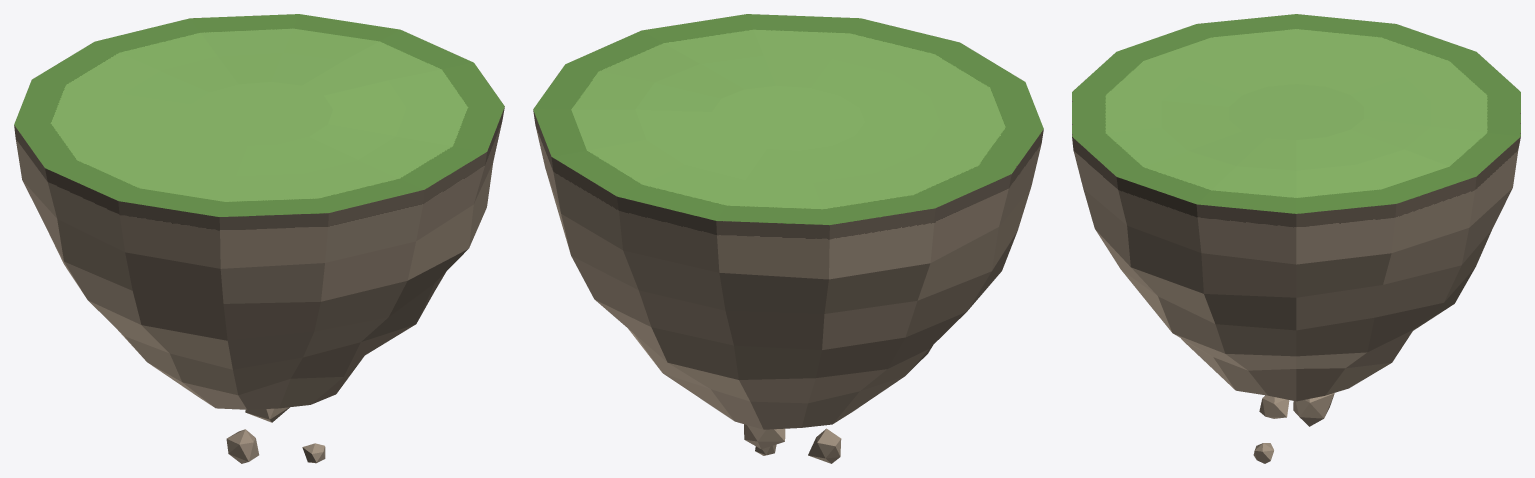
Rendered from AST03e_Island05_Contact.glb.
The picture shows the model from 3 angles, left to right: view 1: azimuth 30°, elevation 25°; view 2: azimuth 150°, elevation 25°; view 3: azimuth 270°, elevation 25°; orthographic projection. The views are drawn at different scales.
Parts seen in each view (by area): view 1: AST03e_Island05_Contact; view 2: AST03e_Island05_Contact; view 3: AST03e_Island05_Contact.
Part boxes in pixels (box(x1,y1,x2,y2)): AST03e_Island05_Contact: box(14, 14, 504, 463); AST03e_Island05_Contact: box(533, 14, 1043, 463); AST03e_Island05_Contact: box(1072, 14, 1520, 463).
Size of the model in its own units: 15 by 11.68 by 14.19.
1 material, 1 textured.
